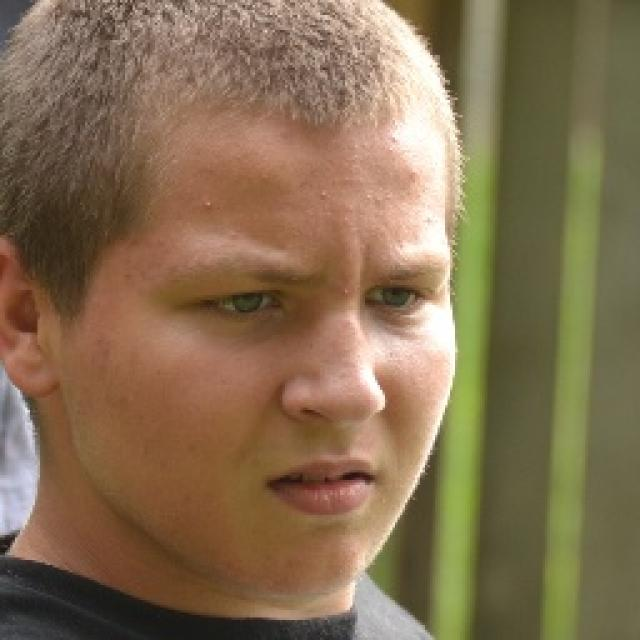earlobe: (16, 343, 59, 398)
eye: (201, 290, 283, 318), (365, 286, 425, 310)
nose: (278, 402, 403, 463)
wholeear: (0, 235, 60, 398)
